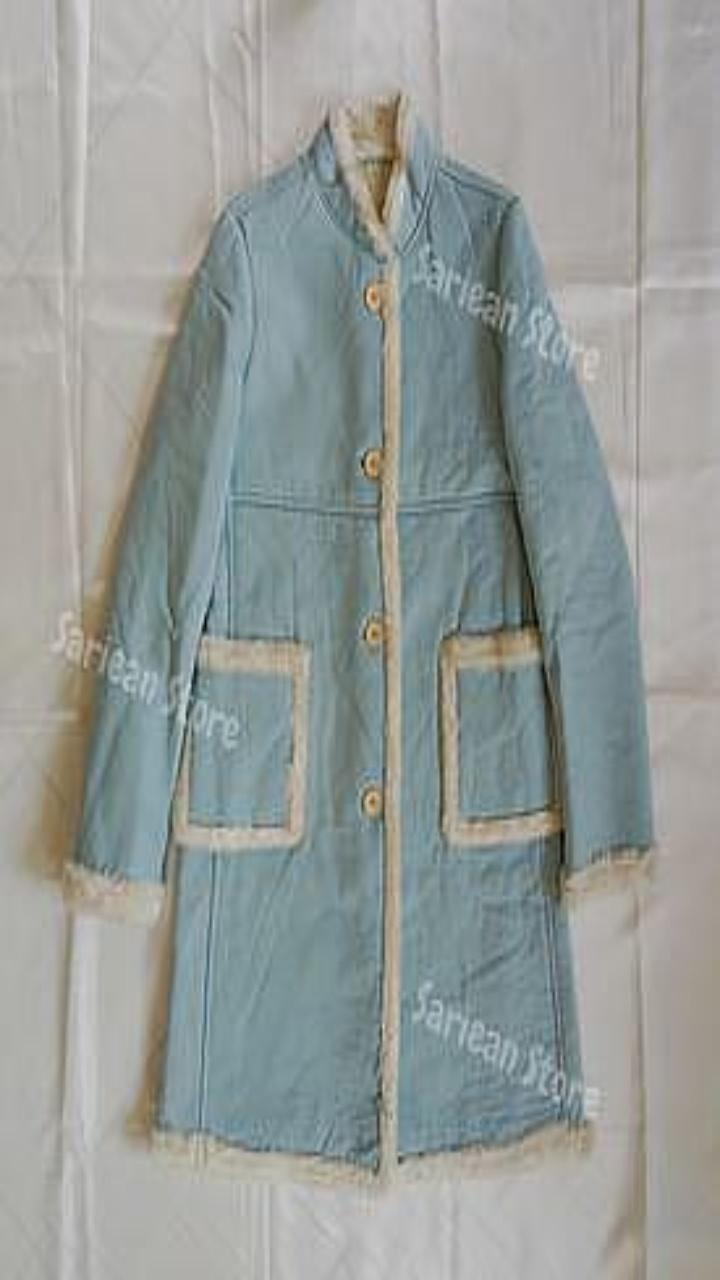Coat: (63, 92, 653, 1185)
